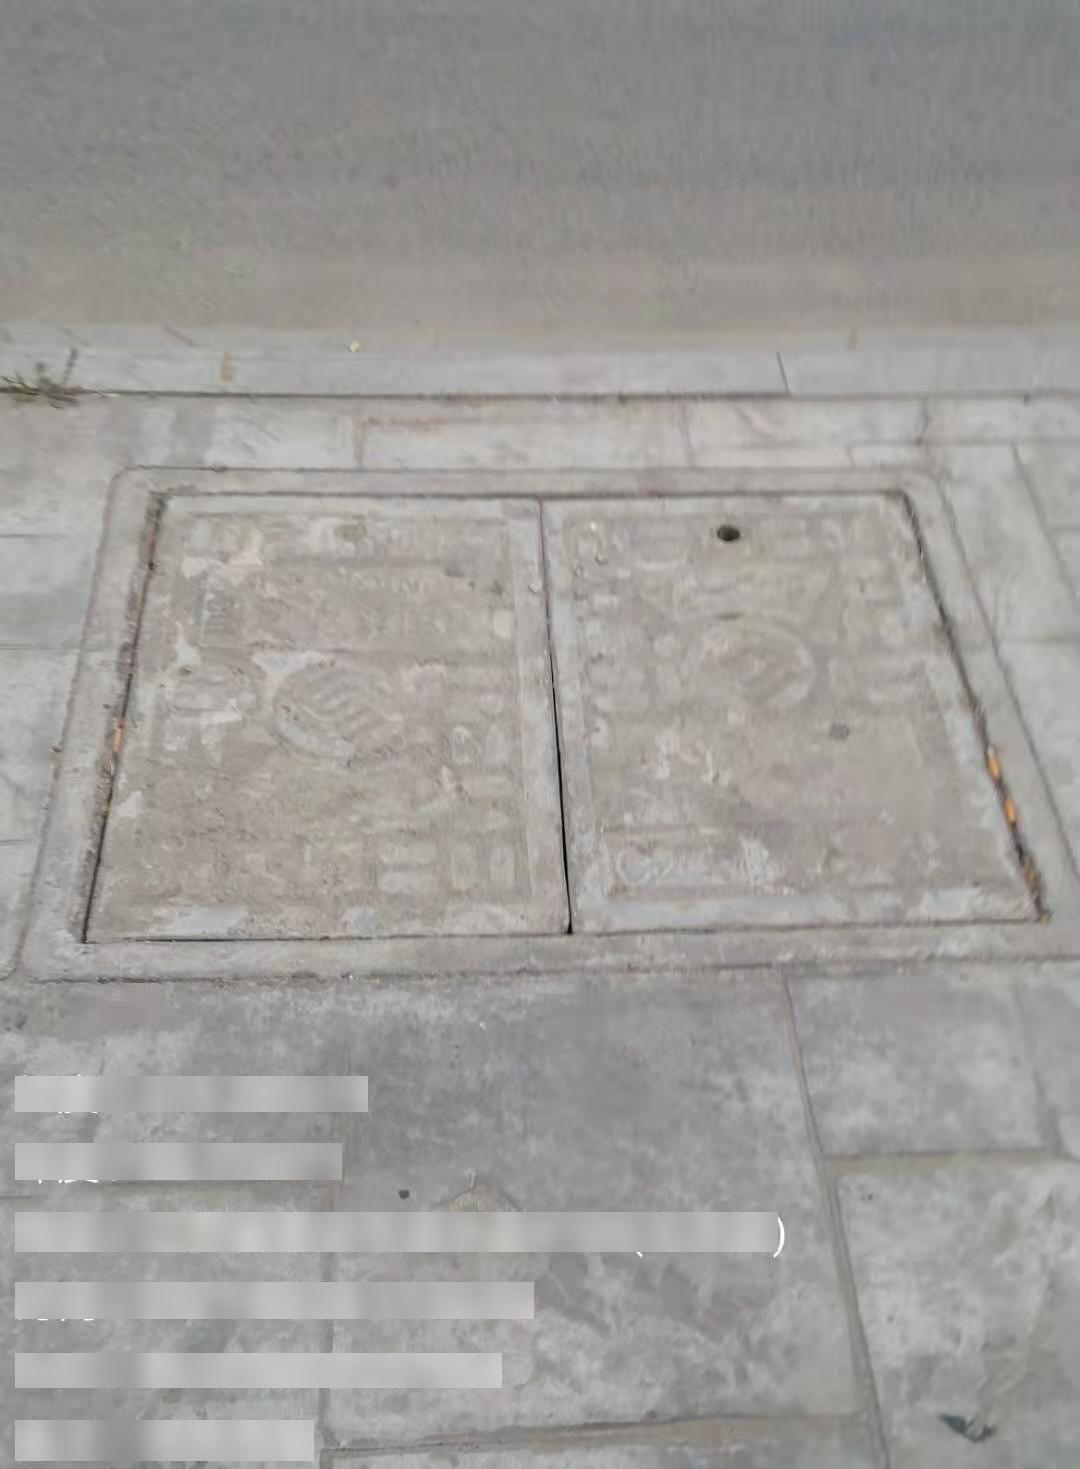wellcover: (60, 438, 1080, 988)
